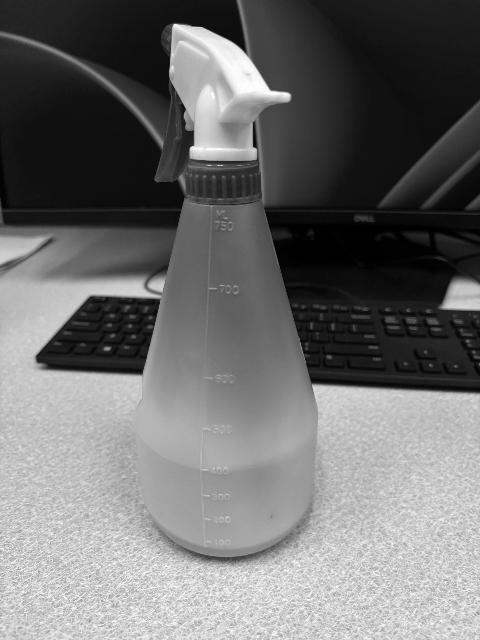AlcoholSpray: (133, 25, 319, 563)
